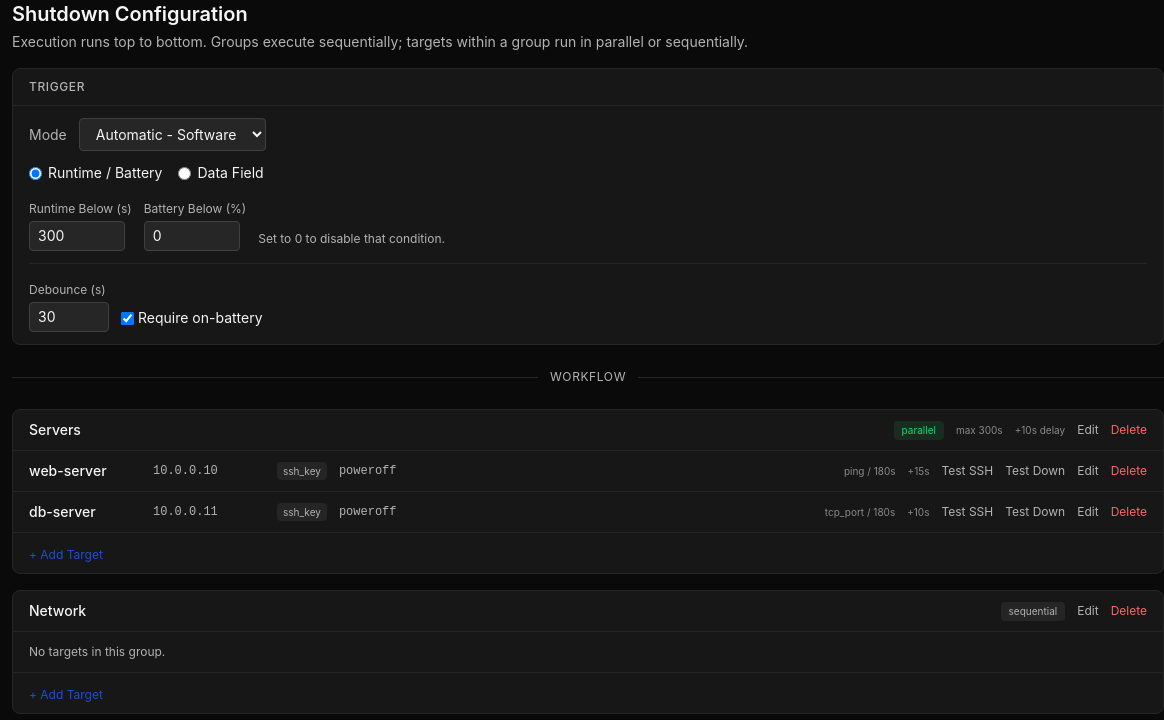
Test: ShutdownConfig — Targets › opens target add form
Step 1. Click the button "+ Add Target" below "db-server" → (66, 555), box x1=29 y1=547 x2=103 y2=563
(page scrolled)
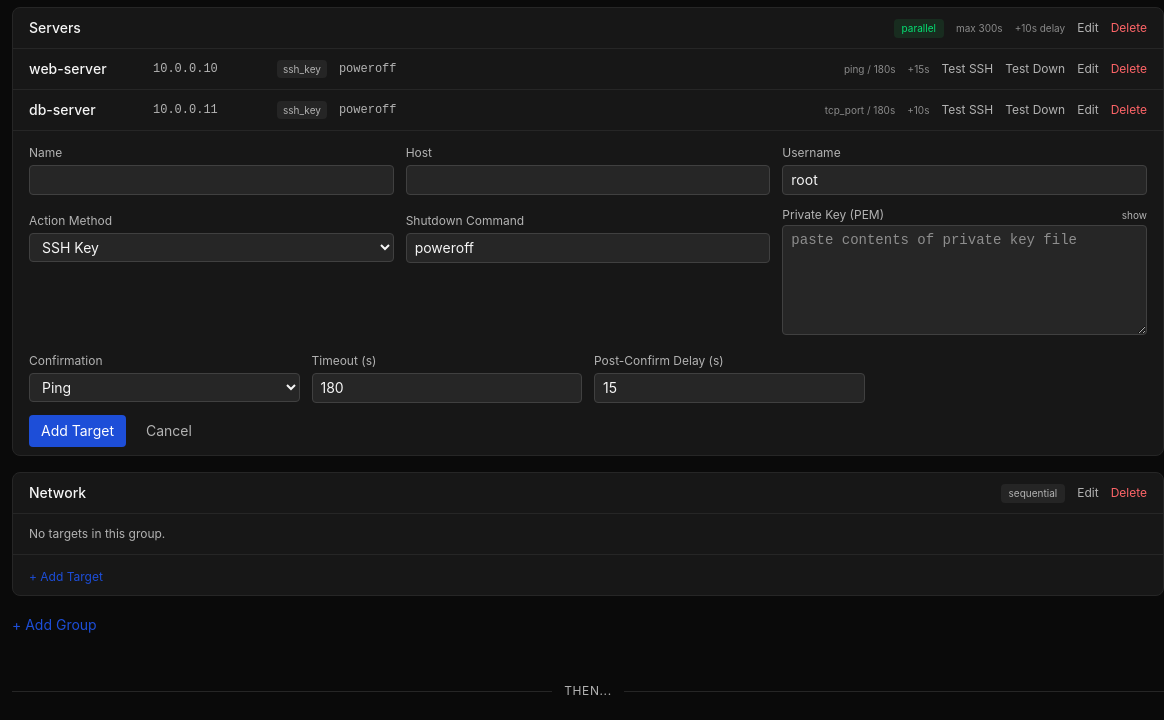
Check: the button "Add Target" is shown, box x1=29 y1=415 x2=126 y2=447
Check: the text "Action Method" is shown, box x1=29 y1=213 x2=112 y2=228
Check: the text "Confirmation" is shown, box x1=29 y1=353 x2=102 y2=368
